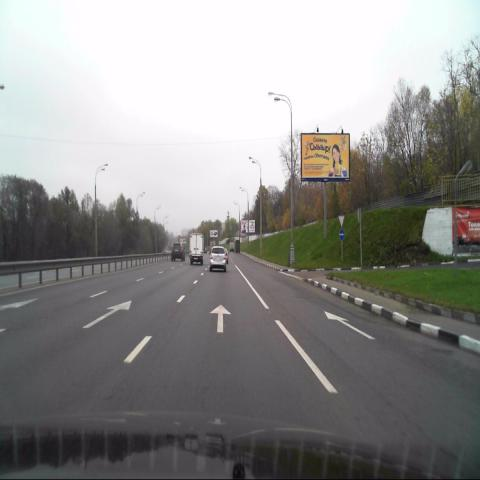2_4: (337, 214, 345, 227)
4_1_2_1: (338, 229, 344, 241)
